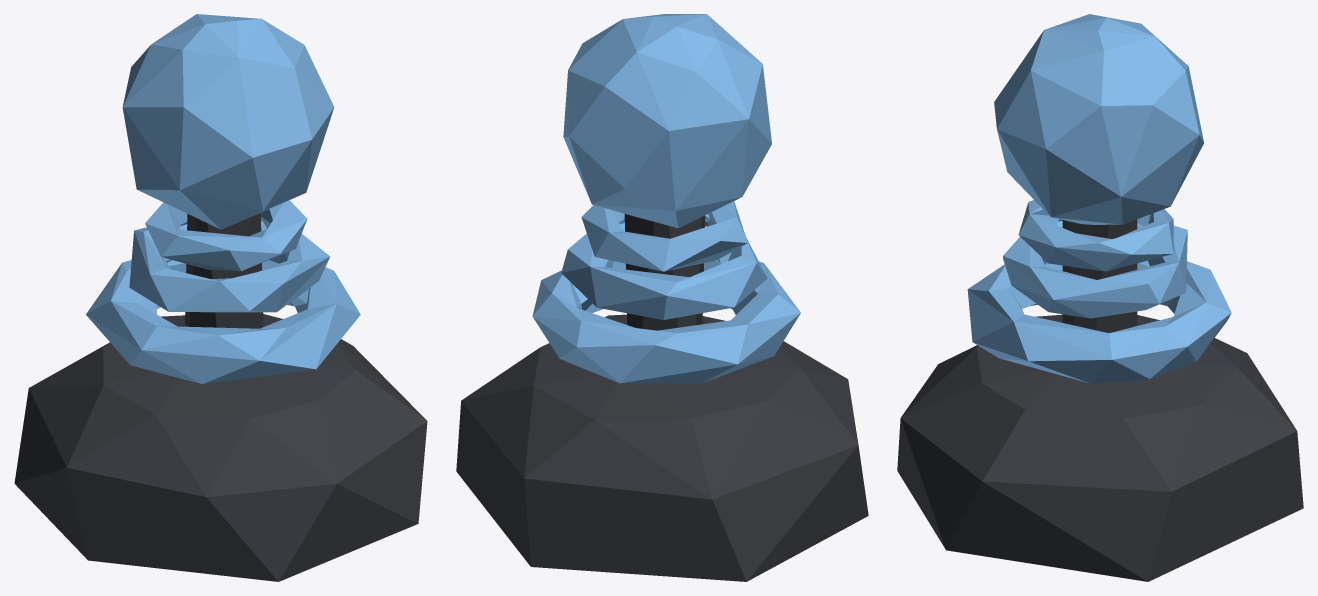
Rendered from TeslaLvl2.glb.
3 renders of one model, left to right at view 1: azimuth 30°, elevation 25°; view 2: azimuth 150°, elevation 25°; view 3: azimuth 270°, elevation 25°, orthographic.
Parts seen in each view (by area): view 1: Cube; view 2: Cube; view 3: Cube.
Boxes of the visible parts, left/top/right/bottom form: Cube: left=14, top=14, right=427, bottom=581; Cube: left=456, top=14, right=868, bottom=581; Cube: left=897, top=14, right=1303, bottom=581.
Size of the model in its own units: 10.79 by 13.67 by 10.74.
